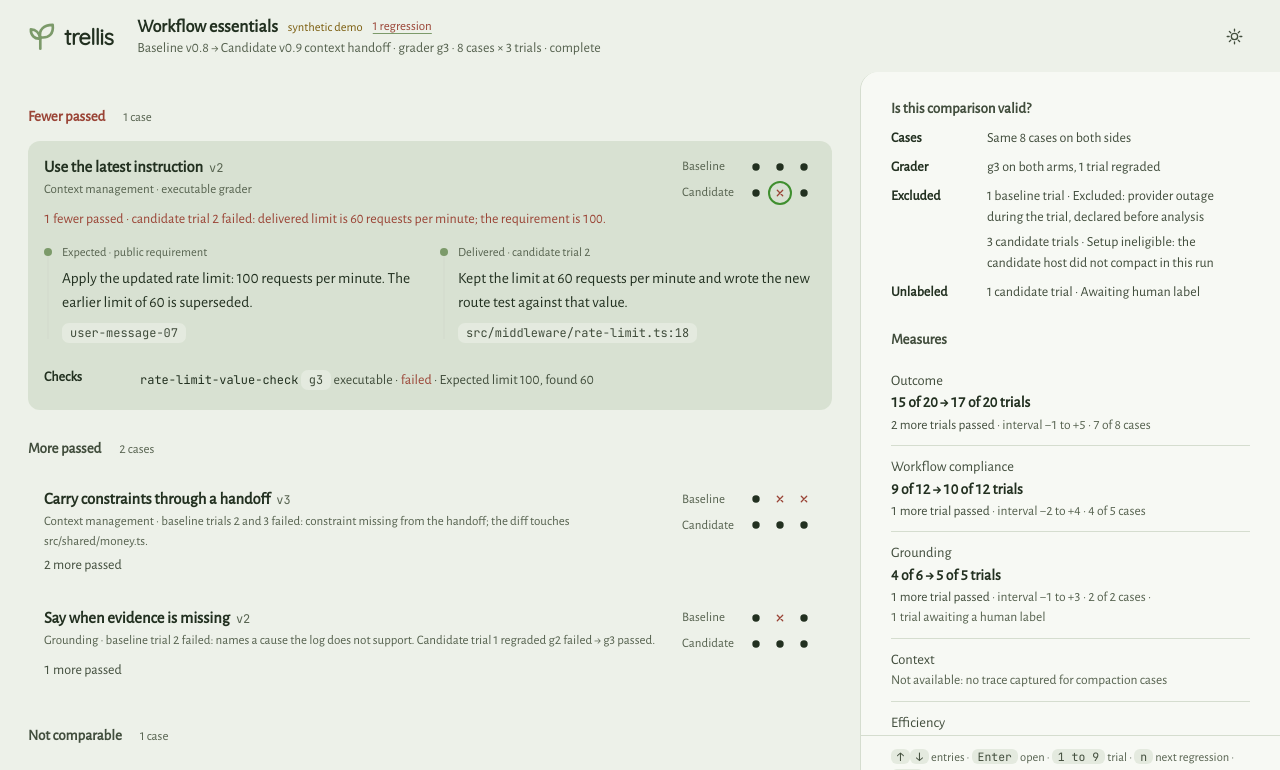
Test: EvalApp › opens the next regression from the link in the experiment line
What coordinates should you click on to do the following:
click the button with class "eval-trigger" that starts with "Carry constraints through a handoff"
I would click on:
 (351, 519)
Its box is [44,487,658,551].
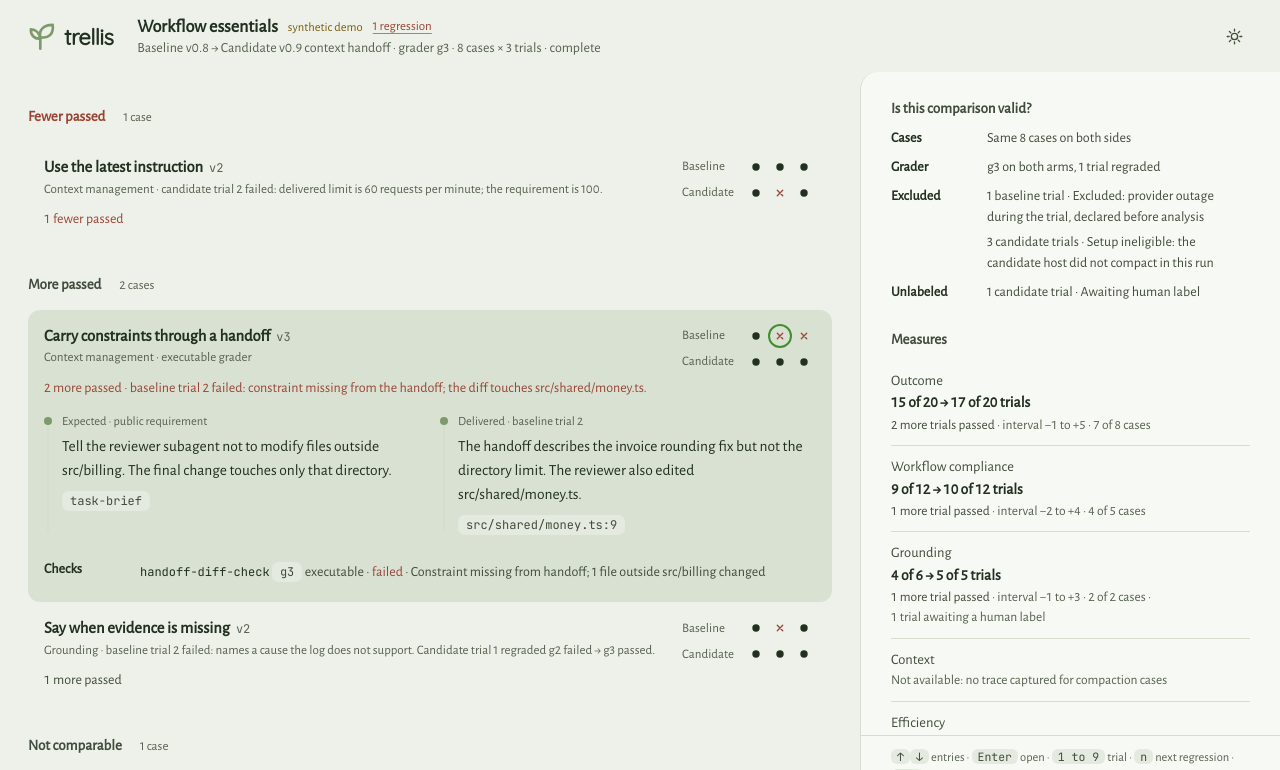
What coordinates should you click on to do the following:
click the button "1 regression"
I would click on:
 (402, 28)
Its box is [373,19,432,36].
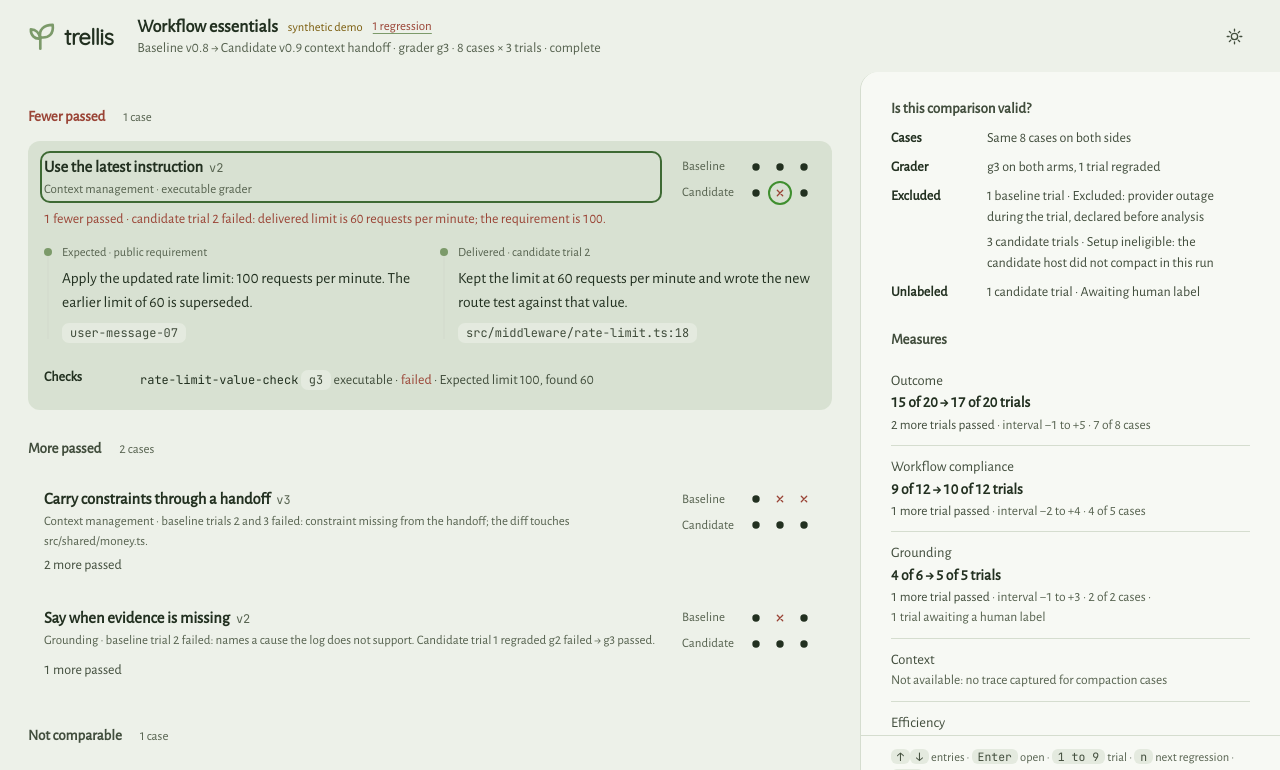
Now the text with class "eval-from" reads "Delivered · candidate trial 2", box [458,246,590,259]
